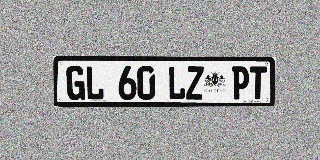0: (137, 66, 155, 100)
6: (118, 66, 136, 100)
G: (66, 66, 85, 100)
L: (85, 66, 104, 100), (168, 66, 185, 100)
P: (232, 66, 249, 99)
T: (249, 66, 267, 99)
Z: (186, 66, 204, 100)
